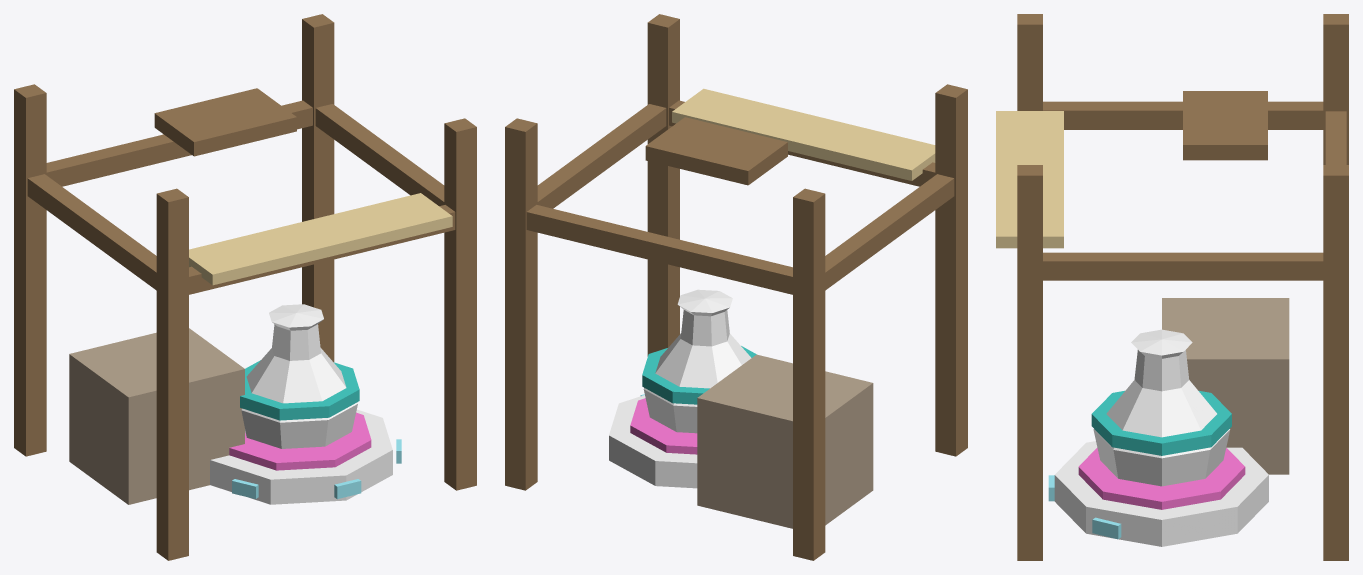
File: lab-scaffold.glb
3 views of the same model, side by side, from view 1: azimuth 30°, elevation 25°; view 2: azimuth 150°, elevation 25°; view 3: azimuth 270°, elevation 25° (orthographic). The views are drawn at different scales.
Parts seen in each view (by area): view 1: lab-scaffold; view 2: lab-scaffold; view 3: lab-scaffold.
Boxes of the visible parts, bbox=[...] form: lab-scaffold: bbox=[14, 14, 476, 560]; lab-scaffold: bbox=[505, 14, 967, 560]; lab-scaffold: bbox=[996, 14, 1348, 560].
Size of the model in its own units: 0.9 by 1 by 0.83.
